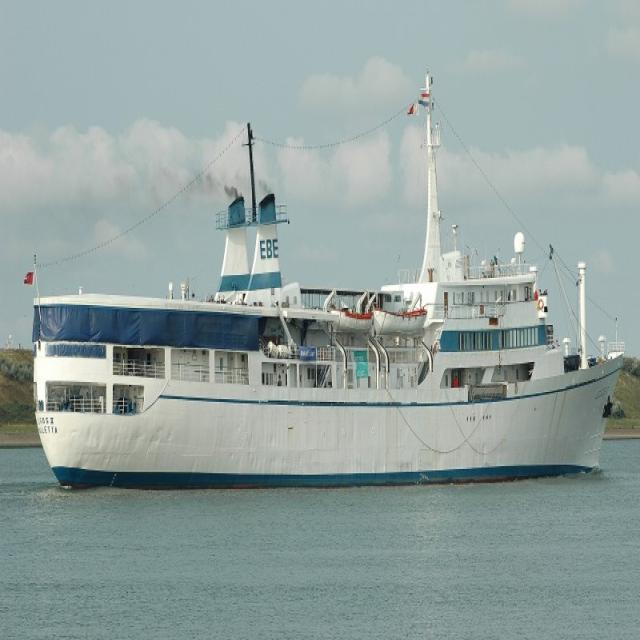PassengerShip: (16, 159, 638, 562)
